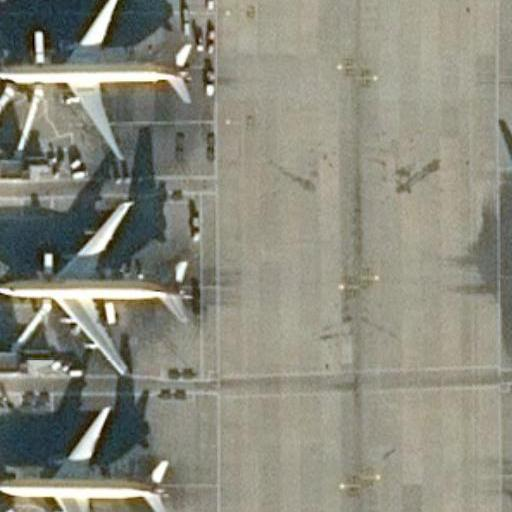Aircraft: (0, 196, 193, 375), (0, 197, 188, 373), (1, 0, 204, 162), (1, 0, 192, 159), (0, 403, 172, 512), (0, 403, 171, 512)
